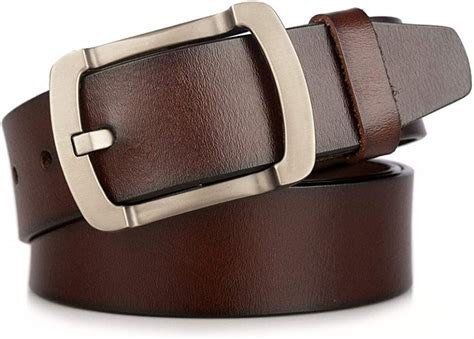cuero: (2, 9, 472, 320)
